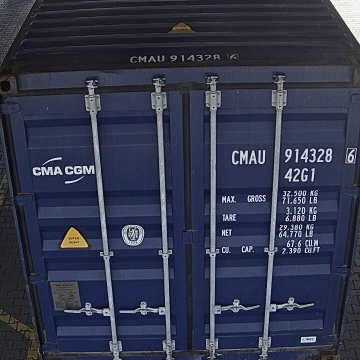serial_id: (232, 148, 356, 164)
